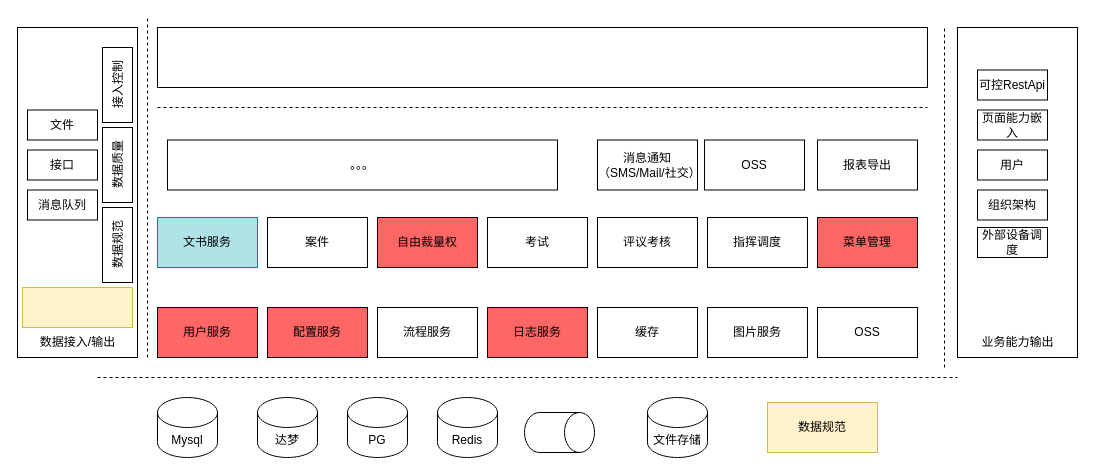
Some shapes in this 1095 by 475 pixel diagram are drawn without their labels. Each missing label, with the centre of its shape:
"Kafka" goes at point 559,432.
"UI" goes at point 542,57.
"数据清洗服务" goes at point 77,307.
